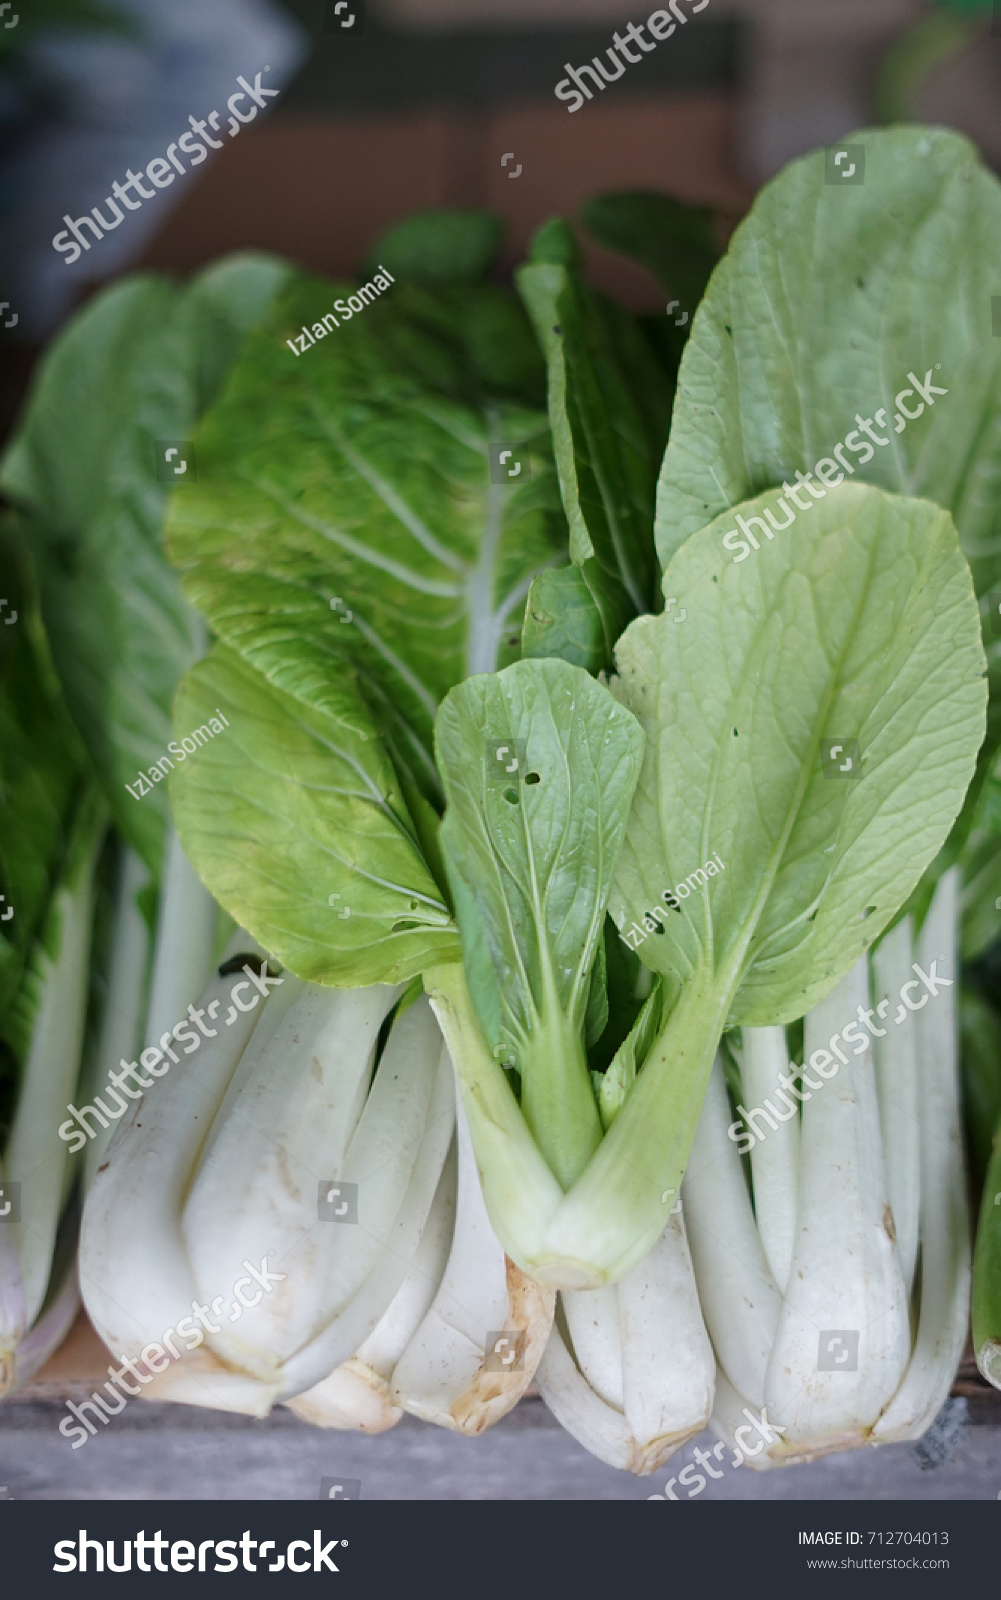Sawi: (269, 446, 1001, 1357)
